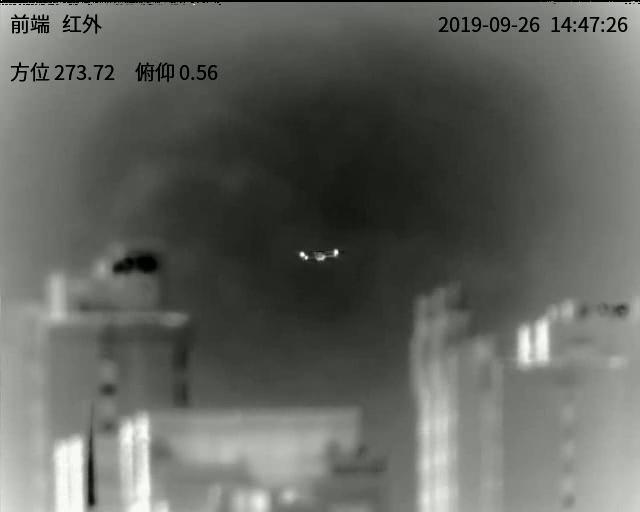DRONE: (297, 247, 339, 264)
